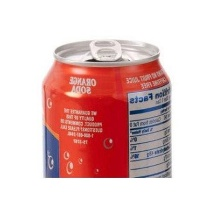can: (40, 31, 175, 179)
